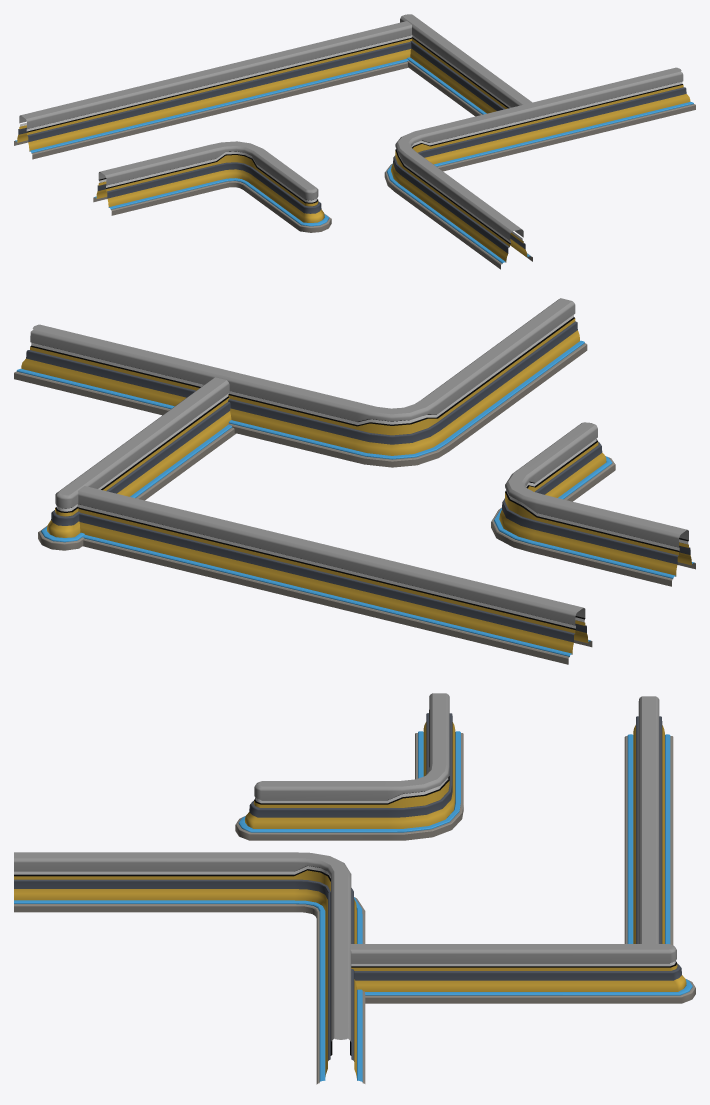
The model's file is SmallWalls.fbx.
The picture shows the model from 3 angles, top to bottom: view 1: azimuth 30°, elevation 25°; view 2: azimuth 150°, elevation 25°; view 3: azimuth 270°, elevation 25°; orthographic projection. The views are drawn at different scales.
Parts seen in each view (by area): view 1: Small_wall4, Small_wall2, Small_wall1, Small_wall3; view 2: Small_wall4, Small_wall2, Small_wall1, Small_wall3; view 3: Small_wall4, Small_wall3, Small_wall1, Small_wall2.
Boxes of the visible parts, x1=… form: Small_wall4: x1=384, y1=67, x2=695, y2=269; Small_wall2: x1=14, y1=21, x2=412, y2=159; Small_wall1: x1=93, y1=141, x2=331, y2=232; Small_wall3: x1=400, y1=14, x2=532, y2=116; Small_wall4: x1=14, y1=298, x2=587, y2=467; Small_wall2: x1=77, y1=486, x2=592, y2=664; Small_wall1: x1=491, y1=422, x2=695, y2=586; Small_wall3: x1=38, y1=377, x2=236, y2=550; Small_wall4: x1=14, y1=852, x2=365, y2=1084; Small_wall3: x1=350, y1=944, x2=695, y2=1003; Small_wall1: x1=235, y1=693, x2=463, y2=840; Small_wall2: x1=624, y1=696, x2=673, y2=945.
Bounding box in the file's own units: 5890 × 388 × 4839.
